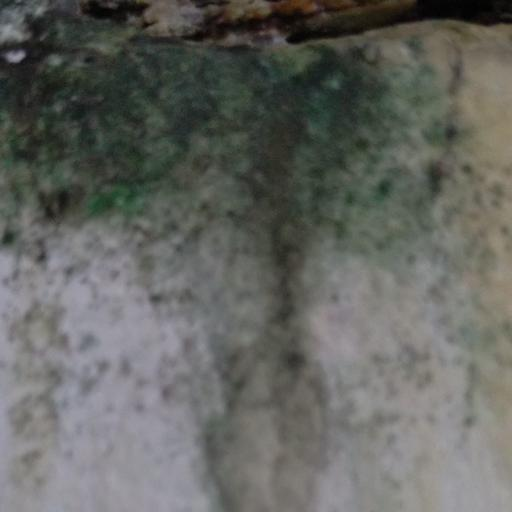algae: (0, 0, 473, 329)
